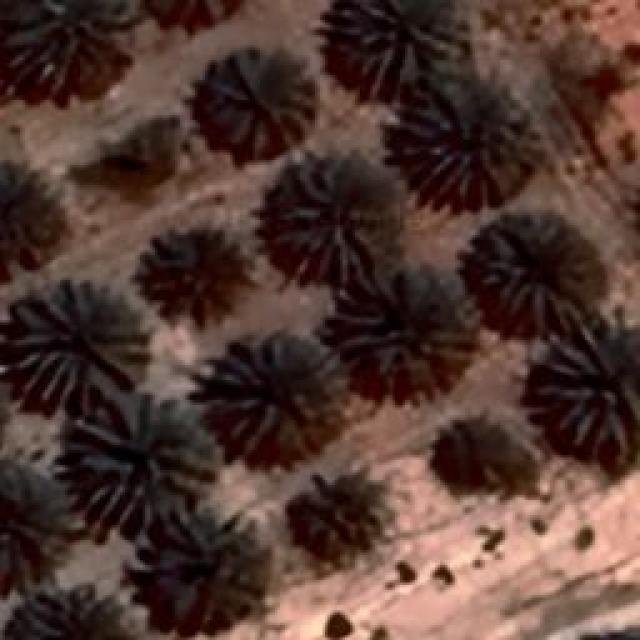PalmTree: (70, 45, 472, 451), (70, 390, 218, 535), (398, 70, 530, 208), (8, 280, 150, 408), (328, 262, 470, 382), (464, 212, 598, 330), (215, 338, 343, 460), (530, 318, 638, 458), (195, 42, 315, 156), (270, 160, 378, 285), (330, 0, 460, 95), (0, 0, 132, 87), (144, 531, 258, 631), (0, 464, 62, 587), (152, 238, 232, 320), (295, 485, 383, 555), (16, 595, 134, 640), (0, 164, 55, 256)
